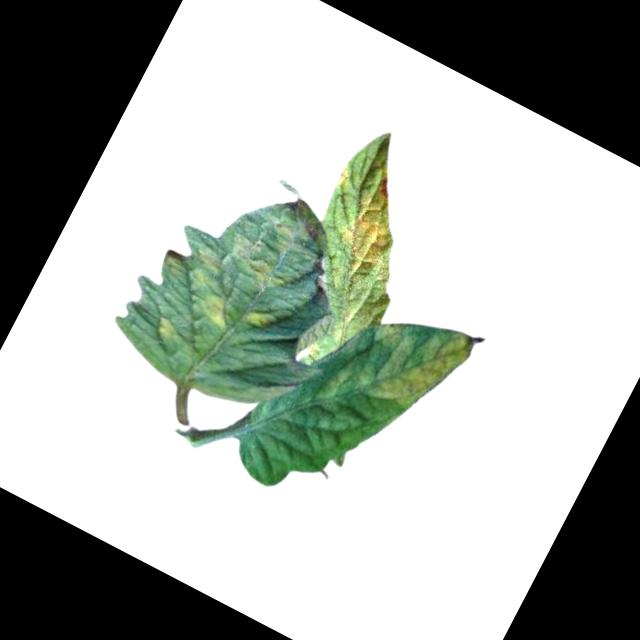Leaf_Mold: (168, 174, 329, 352), (316, 283, 477, 450), (318, 165, 434, 304), (147, 311, 184, 347)
